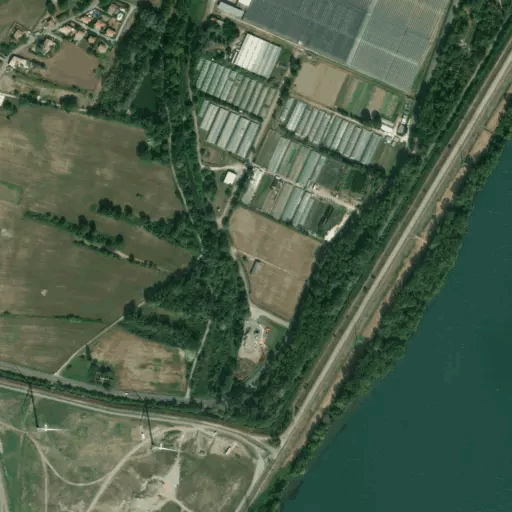wt: (18, 367, 66, 436), (136, 397, 185, 460)
